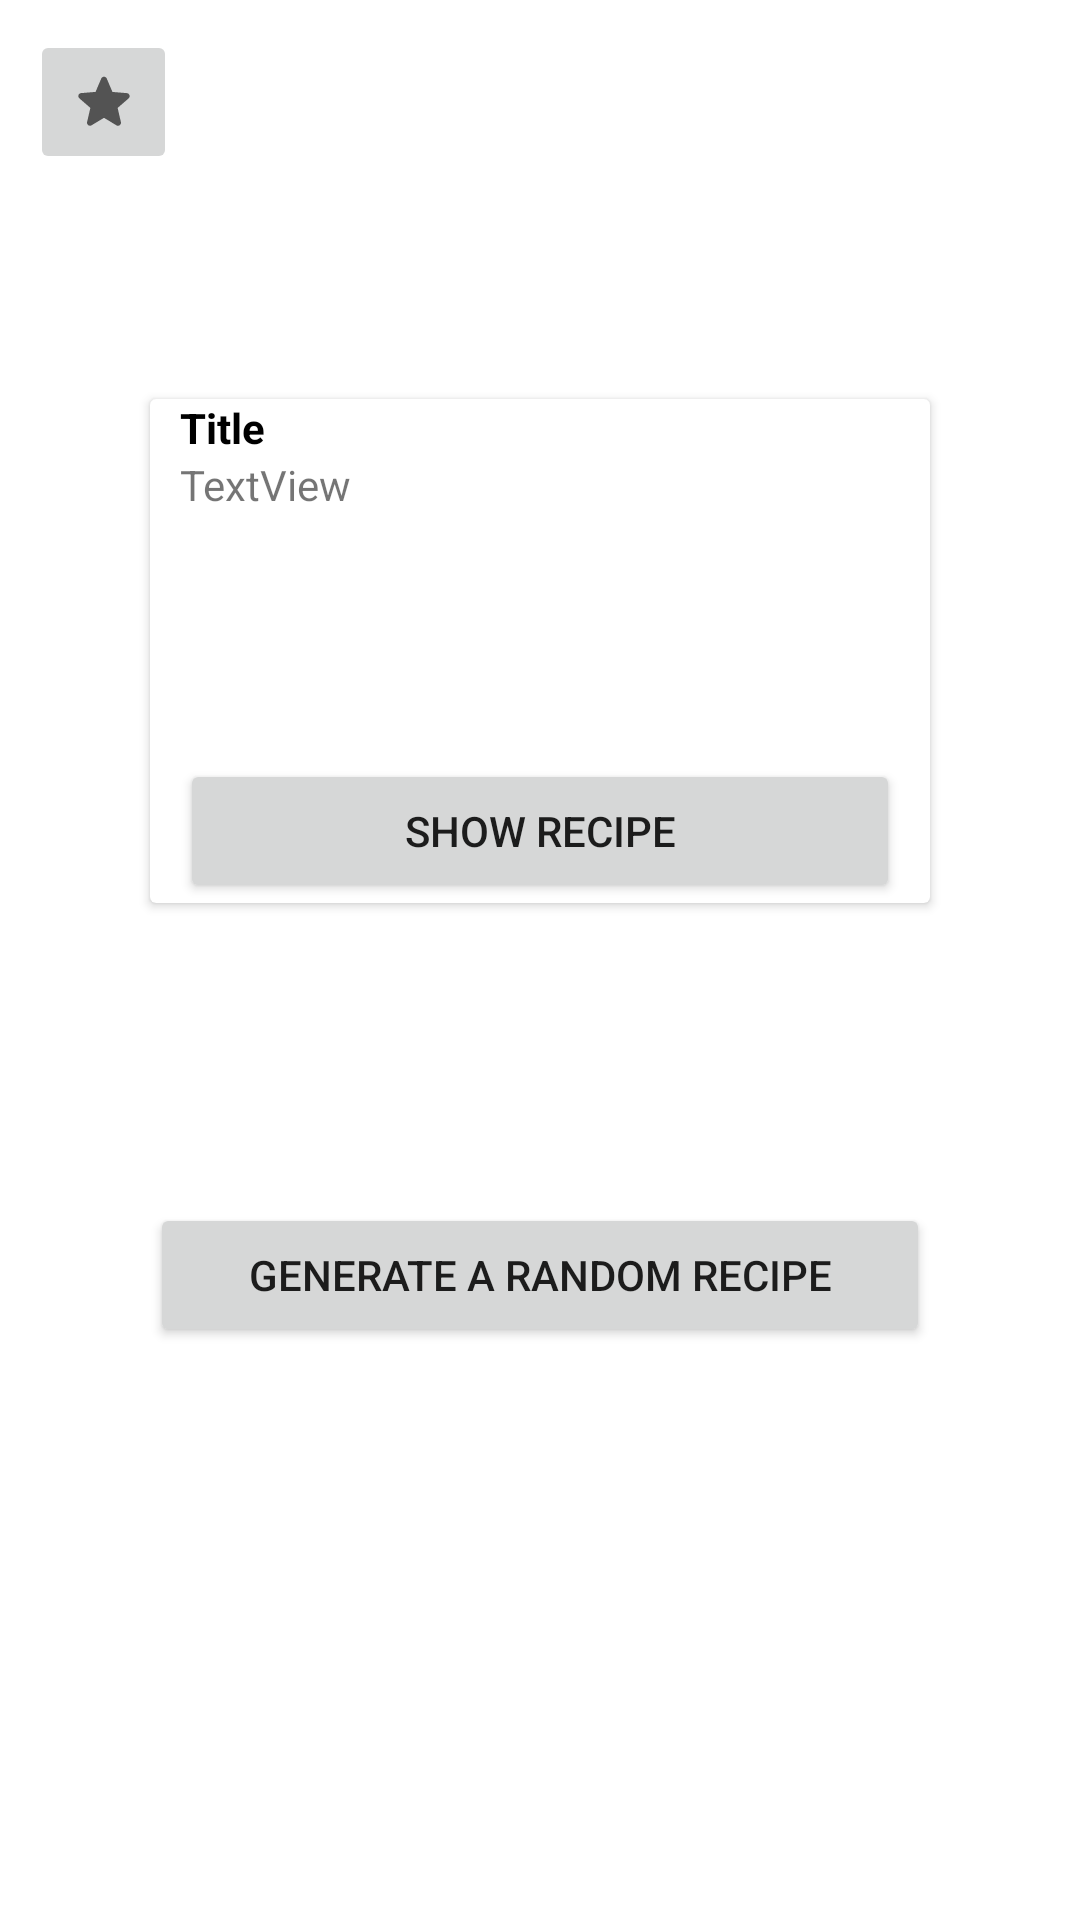

Icons on this 1080 × 1920 Android screen, each with the point to tap as [x,y]:
star: [103,102]
